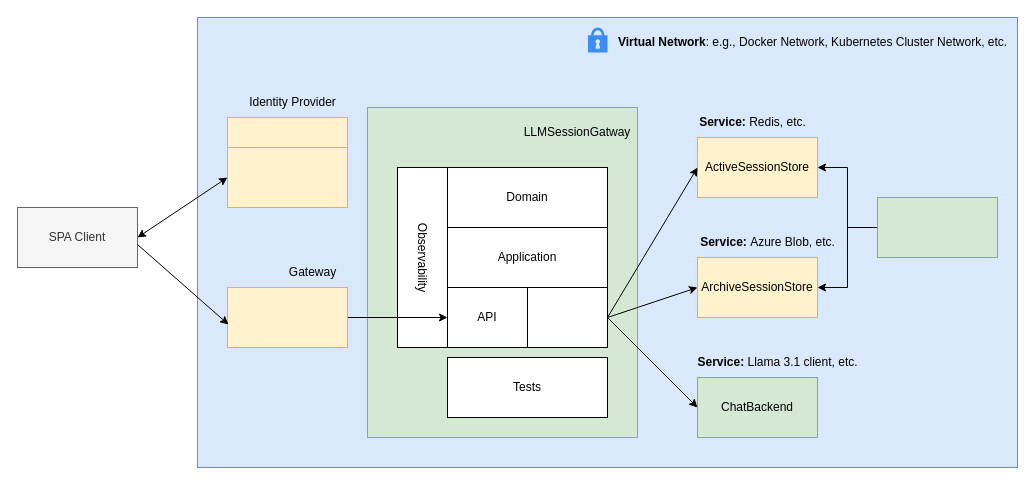
Some shapes in this 1035 by 485 pixel diagram are drawn without their labels. The shapes that lost their labels are listed below. From the top down, each one's box as (x1, y1, x2, y2) in pixels, then its label:
(226, 116, 348, 148): PostgreSQL
(226, 146, 348, 208): Keycloak
(876, 196, 998, 258): ActiveToArchive Deamon
(226, 286, 348, 348): Kong Gateway
(526, 286, 608, 348): Infrastructure
